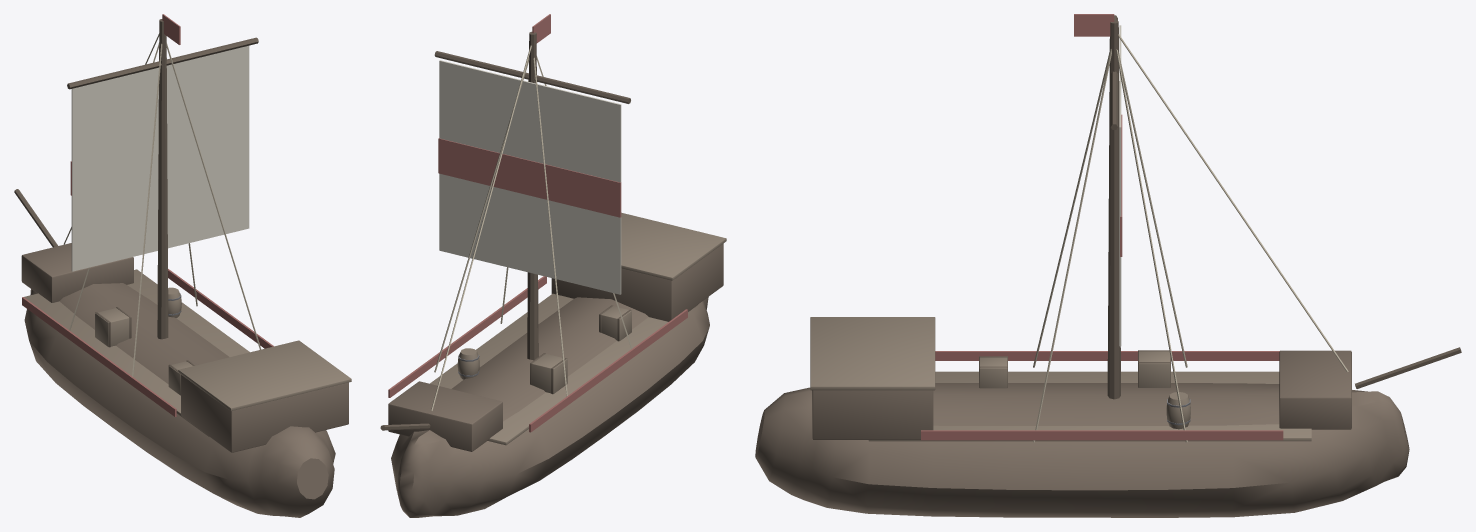
File: cog_ship.gltf
3 renders of one model, left to right at view 1: azimuth 30°, elevation 25°; view 2: azimuth 150°, elevation 25°; view 3: azimuth 270°, elevation 25°, orthographic. The views are drawn at different scales.
Parts seen in each view (by area): view 1: Body; view 2: Body; view 3: Body.
Boxes of the visible parts, x1,y1,x2,y2 form: Body: (14, 14, 351, 517); Body: (380, 14, 726, 517); Body: (755, 14, 1461, 517).
Size of the model in its own units: 6.4 by 13.47 by 17.55.
